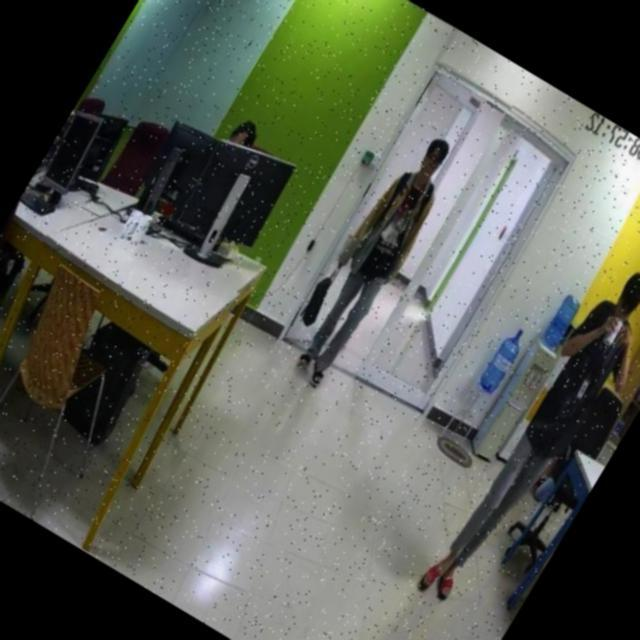person: (412, 258, 640, 621), (276, 123, 474, 396)
